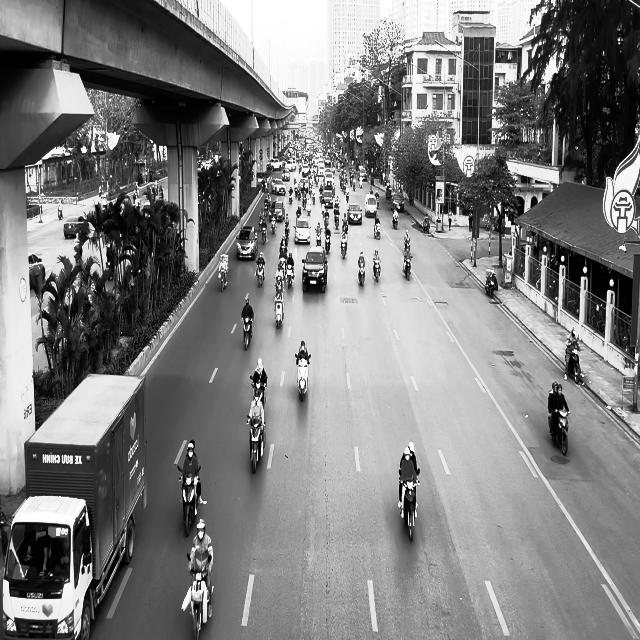car: (302, 245, 328, 293), (236, 225, 258, 260), (64, 215, 90, 238), (28, 252, 46, 285), (294, 218, 311, 244), (347, 203, 362, 225), (391, 192, 405, 212), (365, 194, 377, 217)
motorbike: (186, 553, 214, 639), (177, 464, 201, 536), (399, 469, 420, 542), (247, 416, 266, 474), (549, 409, 570, 456), (296, 353, 312, 401), (564, 348, 582, 384), (250, 376, 266, 408), (274, 289, 285, 328), (242, 315, 254, 350), (485, 270, 498, 298), (256, 259, 266, 287), (219, 264, 228, 292), (403, 254, 412, 280), (324, 228, 332, 254), (358, 260, 366, 286), (340, 235, 348, 258), (374, 260, 382, 282), (374, 220, 381, 239), (393, 212, 399, 230)
truck: (1, 371, 148, 639)
